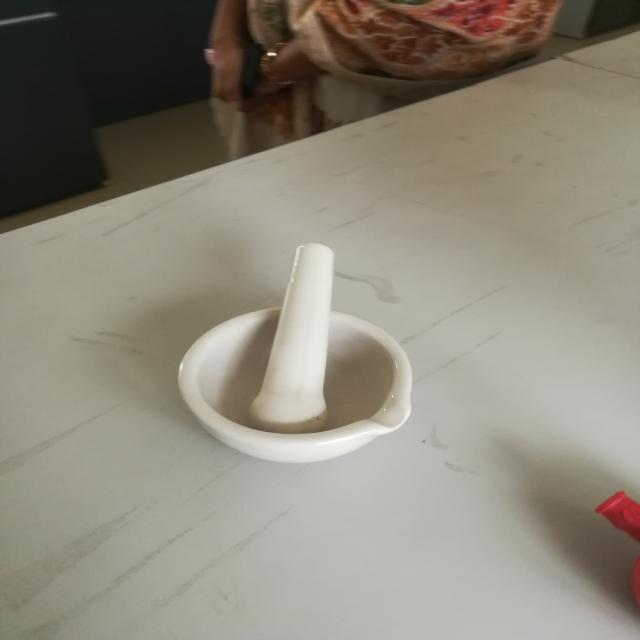Porcelain_Mortar Pestle: (123, 215, 466, 480)
